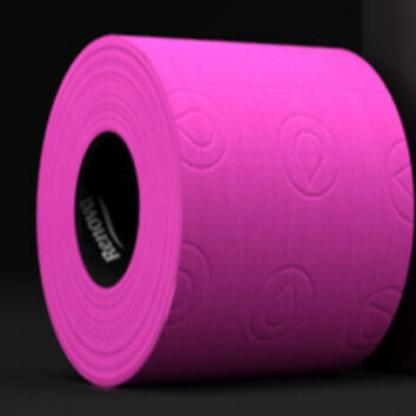tissue: (26, 33, 416, 404)
